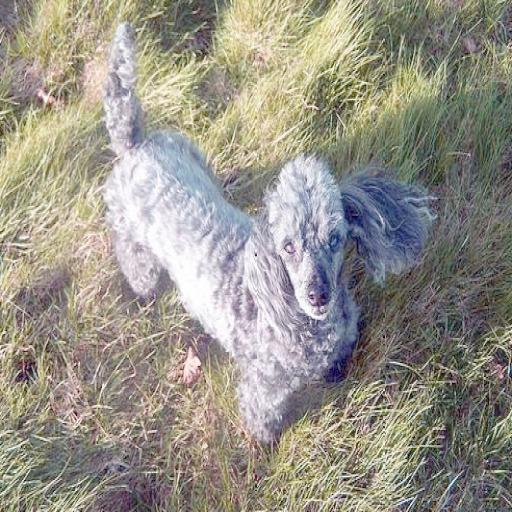dog_face: (244, 167, 431, 326)
